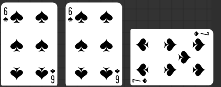6C: (66, 5, 74, 23)
7C: (131, 77, 148, 84)
